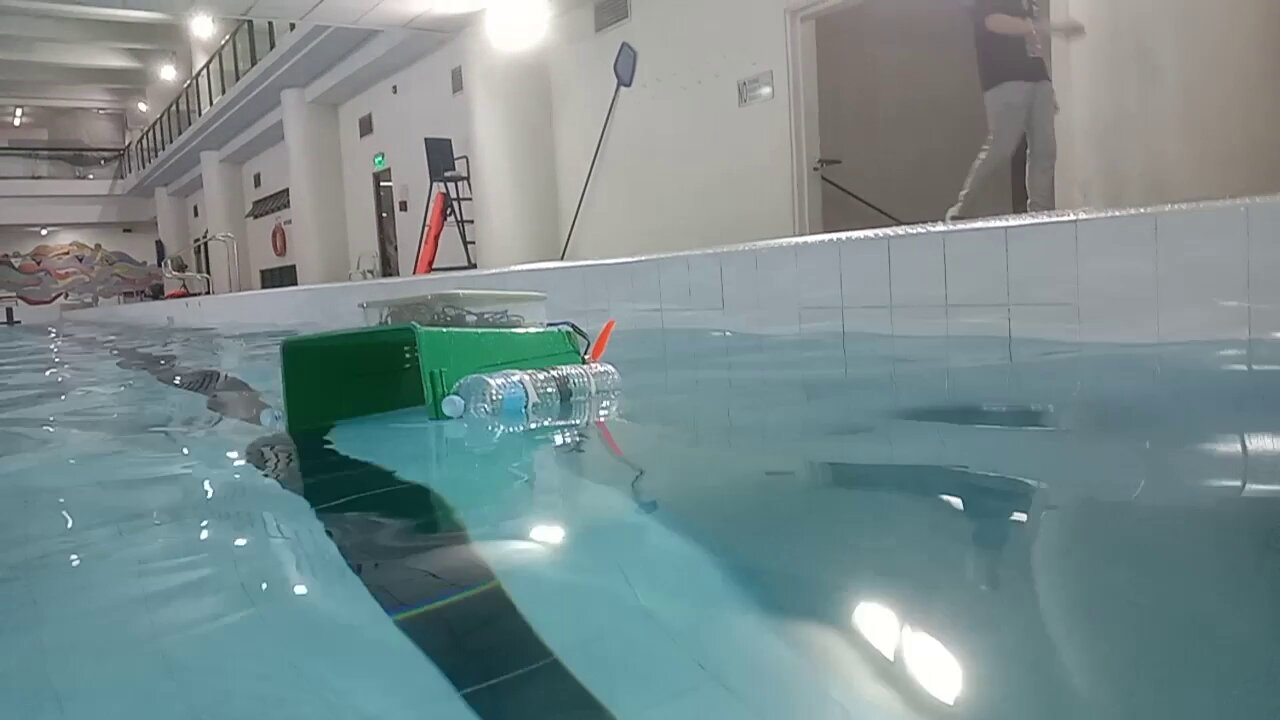drone: (259, 288, 625, 436)
